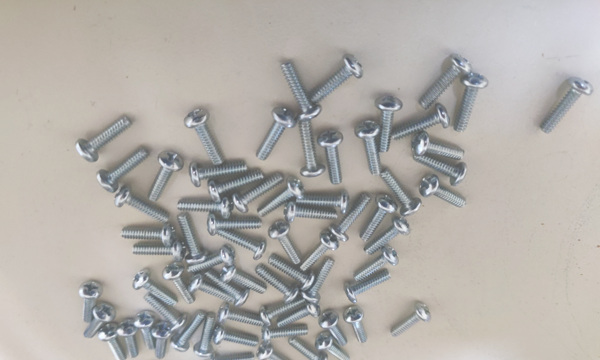shortscrew: (419, 54, 472, 110), (542, 77, 594, 134), (76, 115, 134, 163), (280, 59, 323, 122), (309, 55, 363, 104), (96, 146, 150, 194), (184, 108, 225, 165), (114, 185, 170, 224), (256, 108, 297, 161), (380, 167, 423, 217), (329, 193, 372, 243), (392, 103, 450, 140), (454, 72, 489, 133), (232, 173, 284, 214), (148, 150, 186, 202), (363, 215, 411, 256), (360, 192, 398, 242), (255, 264, 301, 305), (208, 170, 264, 203), (352, 246, 400, 284), (268, 255, 317, 292), (133, 269, 179, 308), (413, 153, 467, 186), (143, 293, 187, 333), (203, 270, 249, 308), (214, 228, 266, 261), (343, 269, 392, 304), (299, 230, 339, 272), (419, 174, 468, 208), (177, 213, 209, 265), (412, 131, 467, 161), (170, 309, 207, 353), (188, 273, 238, 305), (302, 257, 336, 304), (189, 161, 248, 188), (355, 120, 383, 176), (376, 95, 403, 153), (299, 120, 326, 178), (268, 220, 302, 266), (162, 263, 196, 306), (220, 265, 268, 295), (317, 130, 343, 185), (391, 301, 431, 336), (186, 246, 236, 274), (177, 196, 233, 220), (260, 299, 307, 327), (121, 224, 176, 247), (276, 300, 321, 328), (83, 303, 117, 340), (207, 214, 264, 236), (217, 302, 263, 327), (98, 322, 128, 360), (212, 325, 259, 348), (319, 309, 348, 346), (79, 280, 103, 324), (193, 313, 217, 357), (288, 335, 329, 360), (343, 305, 368, 345), (316, 331, 350, 360), (134, 310, 156, 353), (117, 320, 140, 359), (151, 322, 173, 360), (257, 342, 295, 360), (209, 352, 256, 360)
